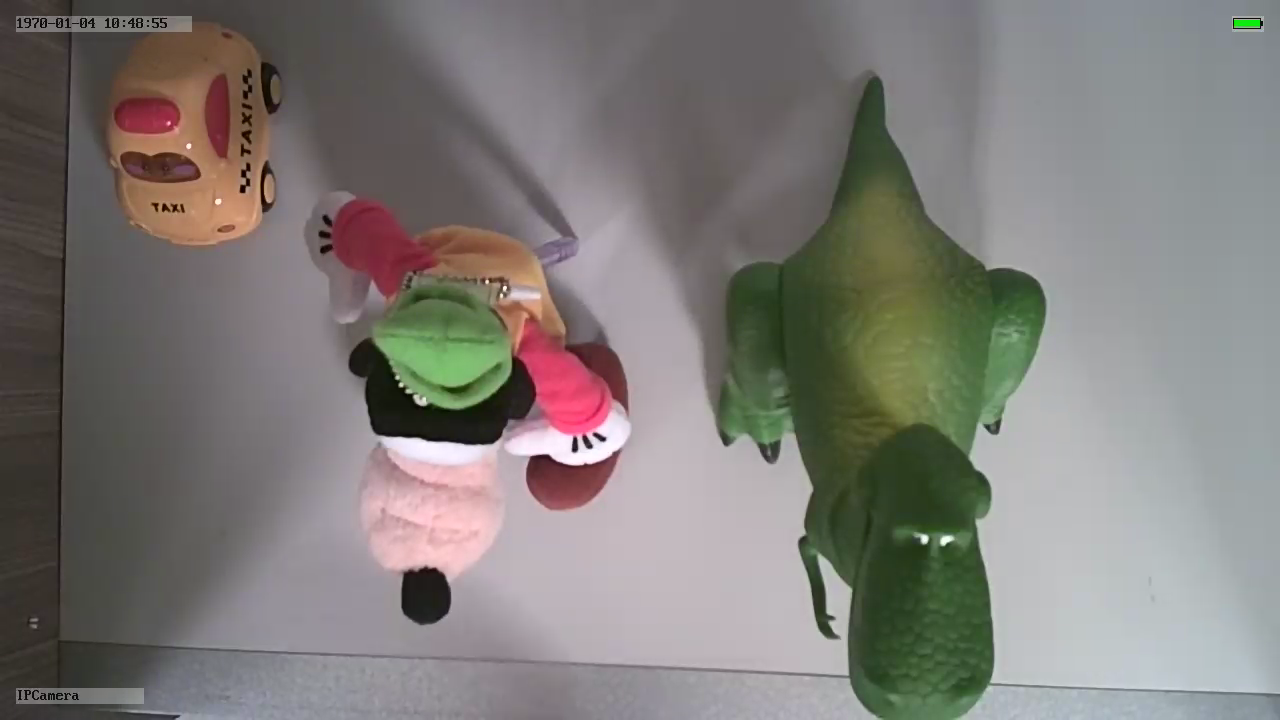goofy: (296, 183, 642, 641)
